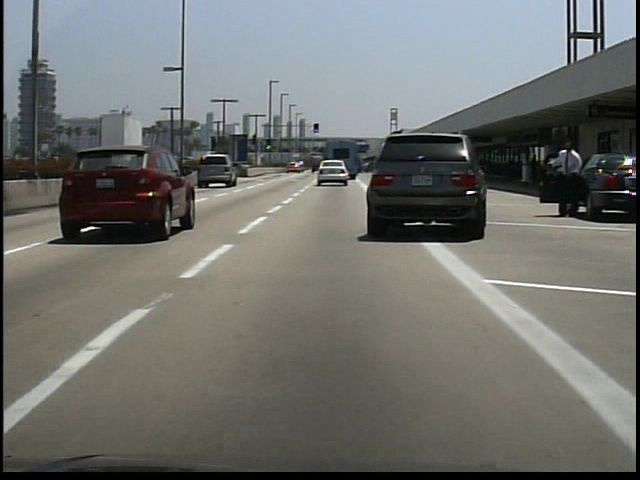person: (543, 137, 584, 221)
